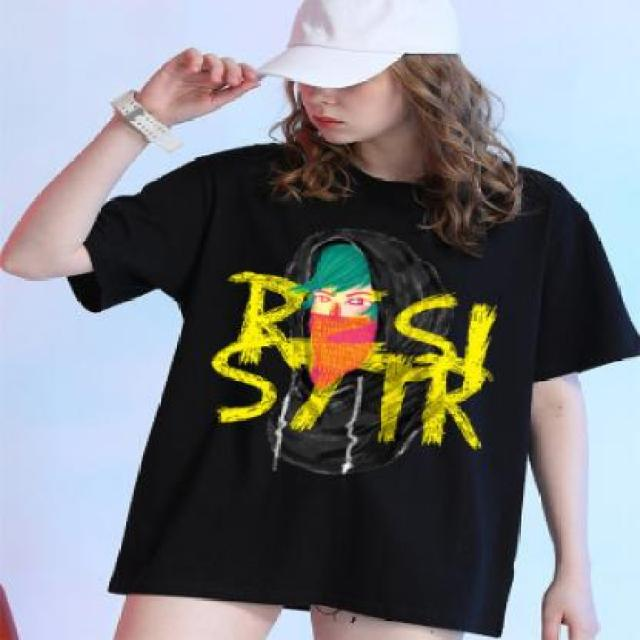hat: (256, 0, 466, 91)
